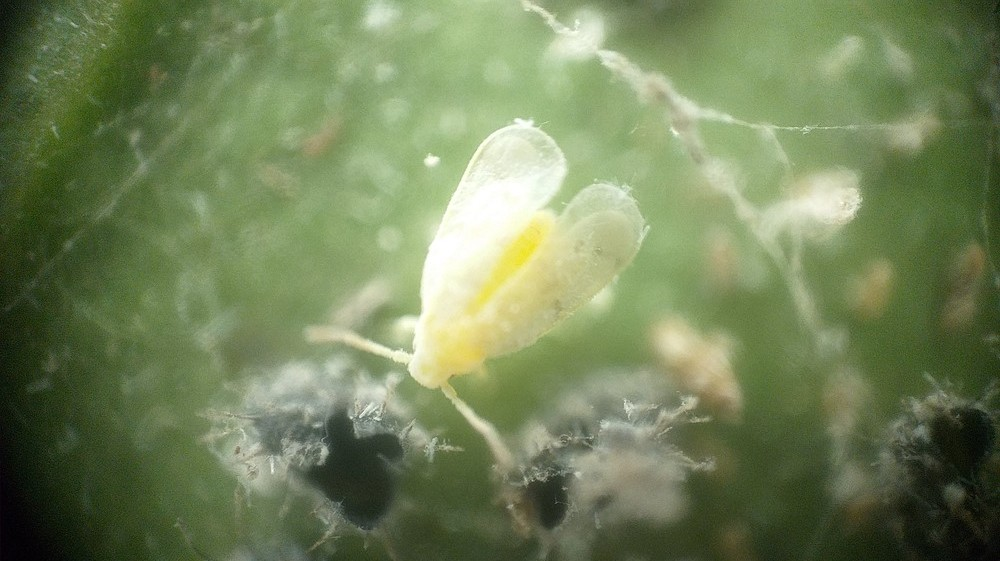Mosca Blanca: (294, 119, 649, 461)
